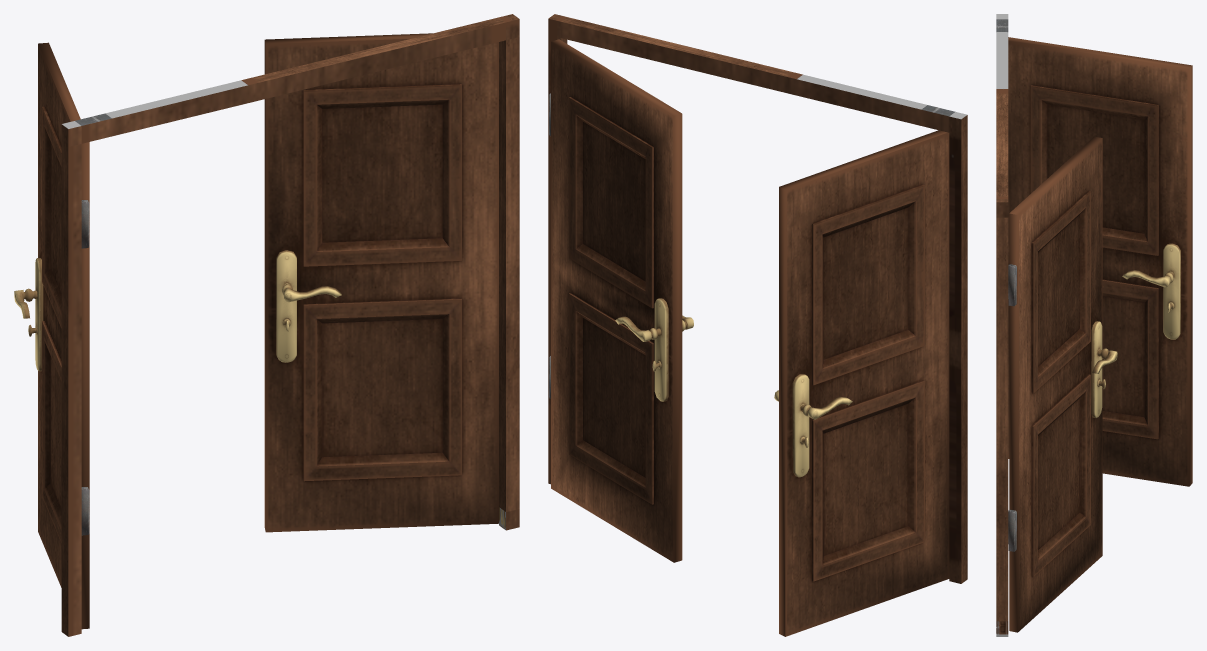
File: Pintu 2,1.fbx
The picture shows the model from 3 angles, left to right: view 1: azimuth 30°, elevation 25°; view 2: azimuth 150°, elevation 25°; view 3: azimuth 270°, elevation 25°; orthographic projection. The views are drawn at different scales.
Visible parts, largest first — view 1: 03.Low.001, Cube.285, 03.Low.002; view 2: 03.Low.002, 03.Low.001, Cube.285; view 3: 03.Low.002, 03.Low.001, Cube.285.
Boxes of the visible parts, box(x1,y1,x2,y2) form: 03.Low.001: box(264, 33, 498, 532); Cube.285: box(61, 14, 519, 636); 03.Low.002: box(14, 42, 89, 629); 03.Low.002: box(774, 130, 949, 636); 03.Low.001: box(549, 39, 693, 562); Cube.285: box(548, 14, 967, 583); 03.Low.002: box(1008, 37, 1192, 486); 03.Low.001: box(1008, 136, 1117, 632); Cube.285: box(996, 14, 1008, 636).
Bounding box in the file's own units: 236 × 253 × 104.
